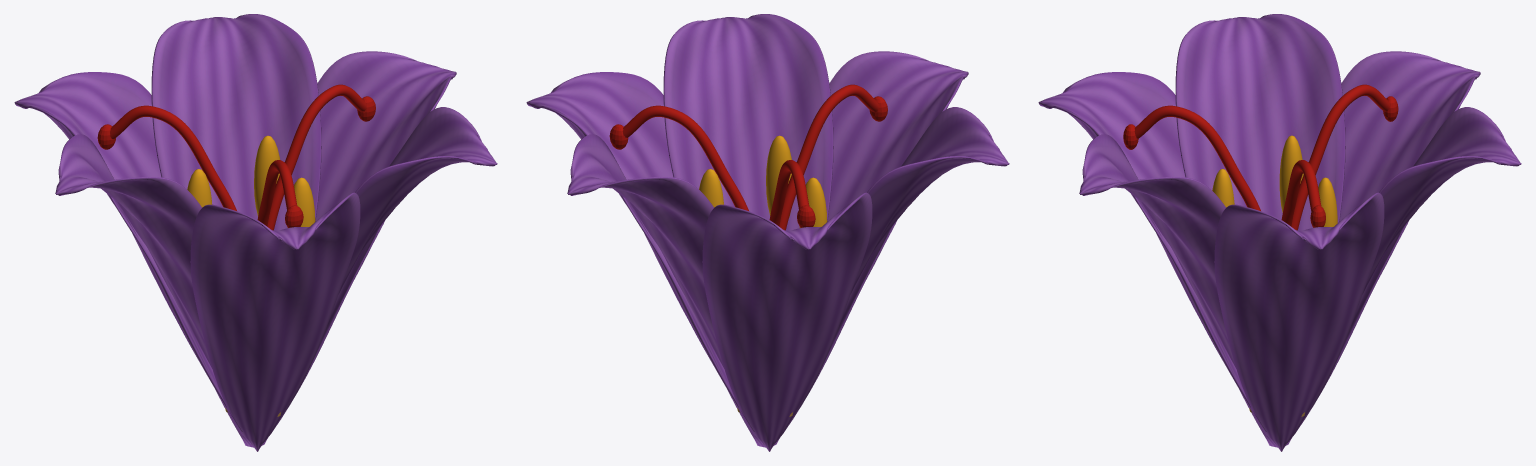
The model's file is crocus-web.glb.
3 views of the same model, side by side, from view 1: azimuth 30°, elevation 25°; view 2: azimuth 150°, elevation 25°; view 3: azimuth 270°, elevation 25° (orthographic).
Parts seen in each view (by area): view 1: Tepal 5, Tepal 2, Tepal 1, Tepal 3, Tepal 4, Tepal 6, Stigma 1, Stigma 0, Stigma 2, Pollen anther 0, Pollen anther 2, Pollen anther 1; view 2: Tepal 3, Tepal 6, Tepal 5, Tepal 1, Tepal 2, Tepal 4, Stigma 0, Stigma 2, Stigma 1, Pollen anther 2, Pollen anther 1, Pollen anther 0; view 3: Tepal 1, Tepal 4, Tepal 3, Tepal 5, Tepal 6, Tepal 2, Stigma 2, Stigma 1, Stigma 0, Pollen anther 1, Pollen anther 0, Pollen anther 2.
Part boxes in pixels (box(x1,y1,x2,y2)): Tepal 5: box(190, 192, 360, 451); Tepal 2: box(151, 14, 321, 230); Tepal 1: box(262, 51, 456, 445); Tepal 3: box(14, 72, 253, 447); Tepal 4: box(55, 134, 212, 368); Tepal 6: box(338, 107, 497, 294); Stigma 1: box(110, 105, 236, 210); Stigma 0: box(267, 84, 366, 230); Stigma 2: box(257, 160, 297, 226); Pollen anther 0: box(254, 135, 279, 216); Pollen anther 2: box(294, 177, 315, 226); Pollen anther 1: box(187, 169, 212, 207); Tepal 3: box(702, 192, 872, 451); Tepal 6: box(663, 14, 833, 230); Tepal 5: box(774, 51, 968, 445); Tepal 1: box(526, 72, 765, 447); Tepal 2: box(567, 134, 724, 368); Tepal 4: box(850, 107, 1009, 294); Stigma 0: box(622, 105, 748, 210); Stigma 2: box(779, 84, 878, 230); Stigma 1: box(769, 160, 809, 226); Pollen anther 2: box(766, 135, 791, 217); Pollen anther 1: box(799, 177, 827, 227); Pollen anther 0: box(699, 169, 723, 207); Tepal 1: box(1214, 192, 1384, 451); Tepal 4: box(1175, 14, 1345, 230); Tepal 3: box(1286, 51, 1480, 445); Tepal 5: box(1038, 72, 1277, 447); Tepal 6: box(1079, 134, 1236, 368); Tepal 2: box(1362, 107, 1521, 294); Stigma 2: box(1134, 105, 1260, 210); Stigma 1: box(1291, 84, 1389, 230); Stigma 0: box(1281, 160, 1321, 226); Pollen anther 1: box(1279, 135, 1303, 212); Pollen anther 0: box(1318, 177, 1337, 226); Pollen anther 2: box(1212, 169, 1234, 207).
Size of the model in its own units: 2.28 by 1.68 by 2.16.
Materials: 4 (1 with a texture image).
